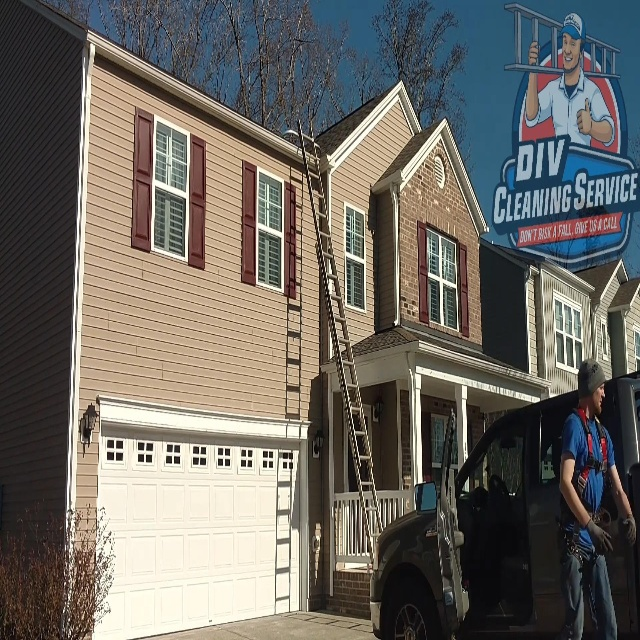Arnes_seguridad: (555, 404, 611, 572)
